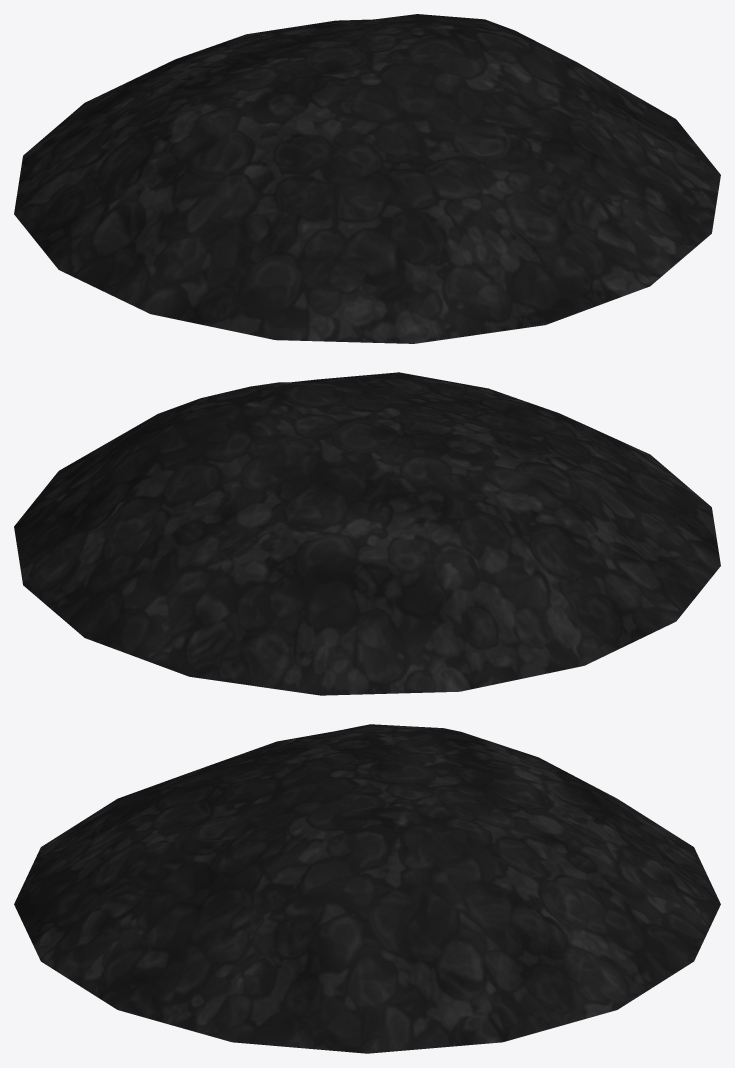
File: SM_CampFireAssets_Low_Ash_Mound.obj
3 views of the same model, one above another, from view 1: azimuth 30°, elevation 25°; view 2: azimuth 150°, elevation 25°; view 3: azimuth 270°, elevation 25° (orthographic).
Parts seen in each view (by area): view 1: SM_CampFireAssets_Low_Ash_Mound_MI_CampFire_Assets; view 2: SM_CampFireAssets_Low_Ash_Mound_MI_CampFire_Assets; view 3: SM_CampFireAssets_Low_Ash_Mound_MI_CampFire_Assets.
Part boxes in pixels (left/top/right/bottom): SM_CampFireAssets_Low_Ash_Mound_MI_CampFire_Assets: left=14, top=14, right=720, bottom=343; SM_CampFireAssets_Low_Ash_Mound_MI_CampFire_Assets: left=14, top=372, right=720, bottom=695; SM_CampFireAssets_Low_Ash_Mound_MI_CampFire_Assets: left=14, top=724, right=720, bottom=1053.
Bounding box in the file's own units: 1.1 × 0.2282 × 1.1.
1 material, 1 textured.
